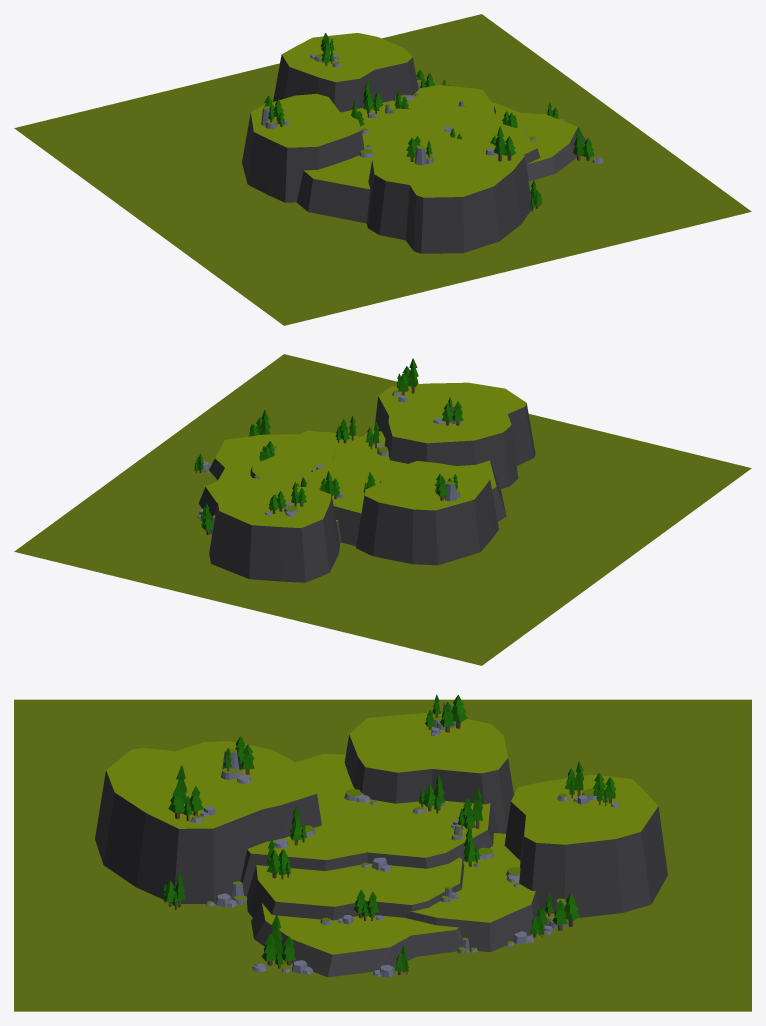
File: landscape2.glb
The picture shows the model from 3 angles, top to bottom: view 1: azimuth 30°, elevation 25°; view 2: azimuth 150°, elevation 25°; view 3: azimuth 270°, elevation 25°; orthographic projection. The views are drawn at different scales.
Parts seen in each view (by area): view 1: Plane, Cube.006; view 2: Plane, Cube.006; view 3: Plane, Cube.006.
Boxes of the visible parts, left/top/right/bottom form: Plane: left=14, top=14, right=751, bottom=325; Cube.006: left=242, top=33, right=585, bottom=253; Plane: left=14, top=354, right=751, bottom=665; Cube.006: left=198, top=382, right=535, bottom=582; Plane: left=14, top=699, right=751, bottom=1011; Cube.006: left=95, top=712, right=667, bottom=977.
Size of the model in its own units: 24.13 by 4.38 by 24.13.
